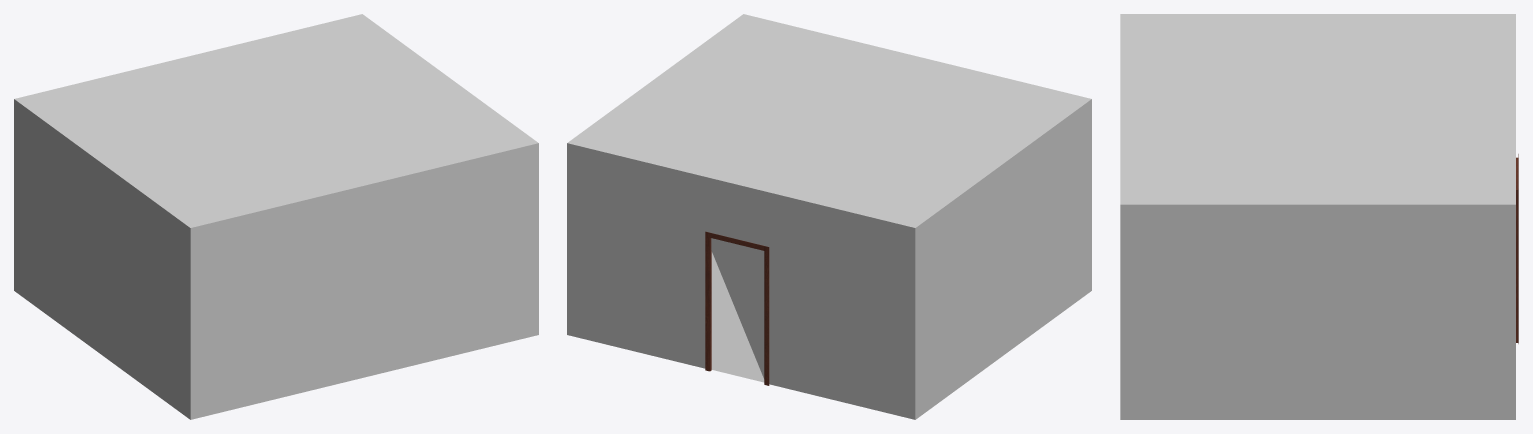
Rendered from muro_porta.fbx.
3 renders of one model, left to right at view 1: azimuth 30°, elevation 25°; view 2: azimuth 150°, elevation 25°; view 3: azimuth 270°, elevation 25°, orthographic. The views are drawn at different scales.
Parts seen in each view (by area): view 1: Dual wall light.040; view 2: Dual wall light.040, 2_Frame; view 3: Dual wall light.040, 2_Frame.
Boxes of the visible parts, bbox=[...] form: Dual wall light.040: bbox=[14, 14, 538, 419]; Dual wall light.040: bbox=[567, 14, 1091, 419]; 2_Frame: bbox=[705, 231, 769, 385]; Dual wall light.040: bbox=[1120, 14, 1515, 419]; 2_Frame: bbox=[1516, 154, 1518, 343].
Bounding box in the file's own units: 570 × 301 × 503.
